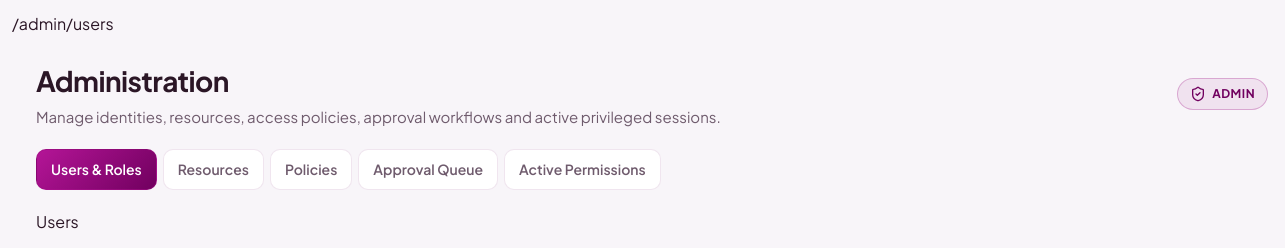
Admin Dashboard routing & role guard › navigates between sections with React Router and no page reload
This screenshot has width=1285, height=248.
Expected: the text "Users" is shown, 36,210 -> 79,232
Click the link with aria-label "admin resources". click: (213, 169)
box: 163,148 -> 264,190
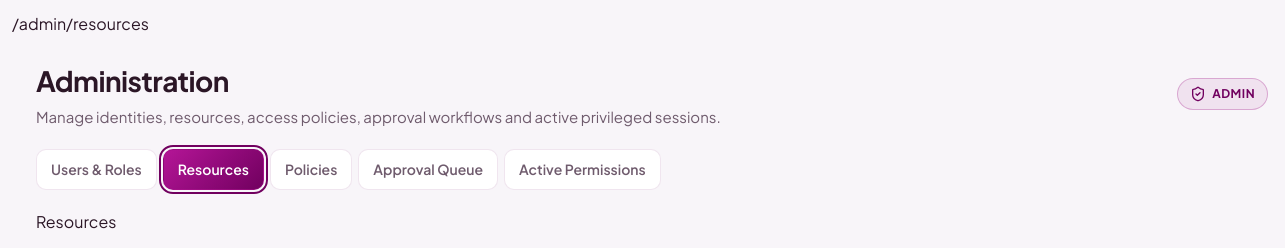
Result: the text "Resources" is shown at 36,210 -> 116,232
Result: the text with test id "location" reads "/admin/resources" at 12,13 -> 149,34
Click the link with aria-label "admin policies". click: (311, 169)
box: 270,148 -> 352,190
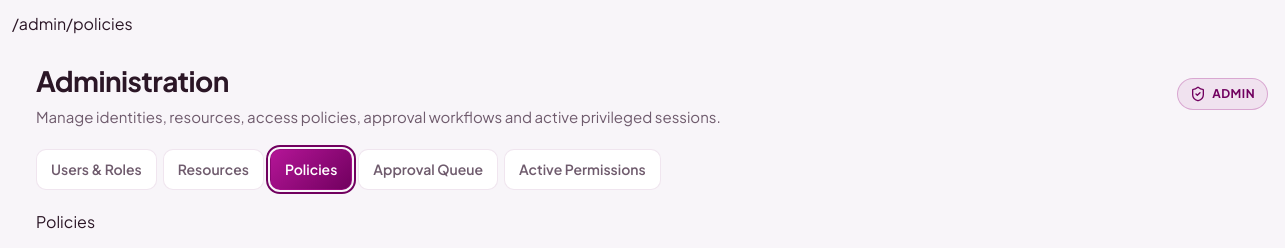
Result: the text "Policies" is shown at 36,210 -> 95,232
Click the link with aria-label "admin active temporary permissions". click: (582, 169)
box: 504,148 -> 661,190
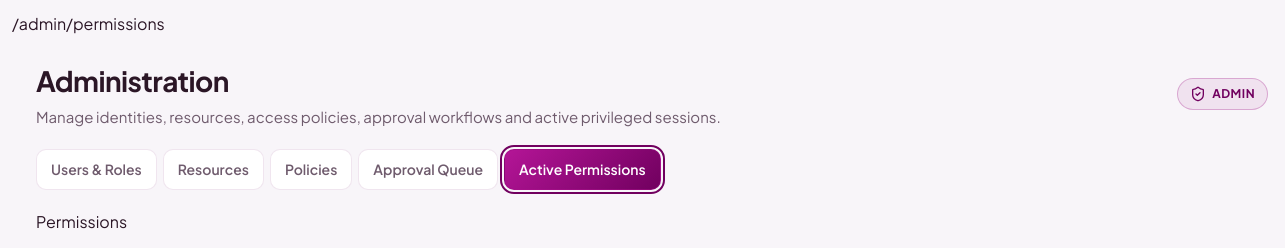
Result: the text "Permissions" is shown at 36,210 -> 127,232
